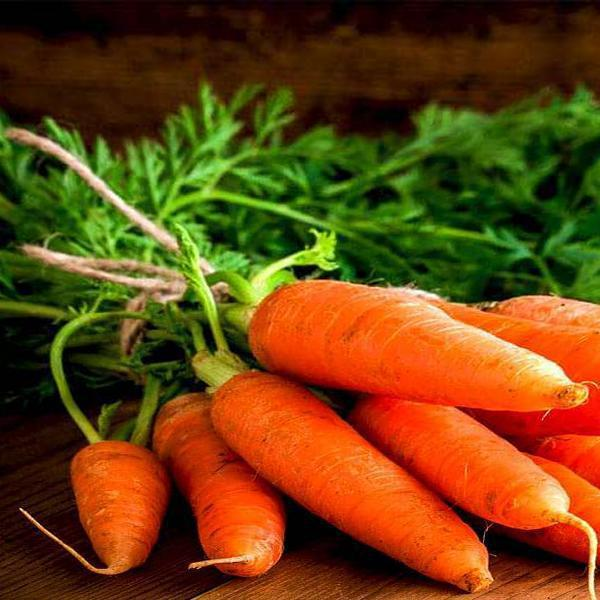carrot: (67, 279, 600, 599), (235, 265, 600, 564), (138, 362, 496, 600), (74, 398, 174, 579)
